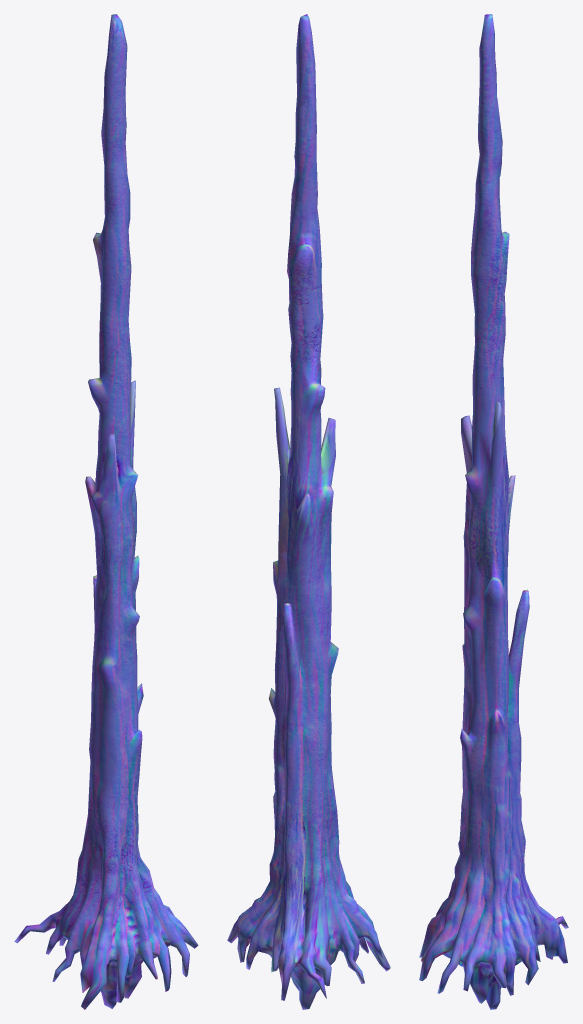
The model's file is CypressTree00d.fbx.
3 views of the same model, side by side, from view 1: azimuth 30°, elevation 25°; view 2: azimuth 150°, elevation 25°; view 3: azimuth 270°, elevation 25° (orthographic).
Parts seen in each view (by area): view 1: cypresstree00Trunk; view 2: cypresstree00Trunk; view 3: cypresstree00Trunk.
Part boxes in pixels (box(x1,y1,x2,y2)): cypresstree00Trunk: box(14, 14, 198, 1009); cypresstree00Trunk: box(227, 14, 390, 1009); cypresstree00Trunk: box(419, 14, 568, 1009).
Size of the model in its own units: 254 by 1823 by 248.
